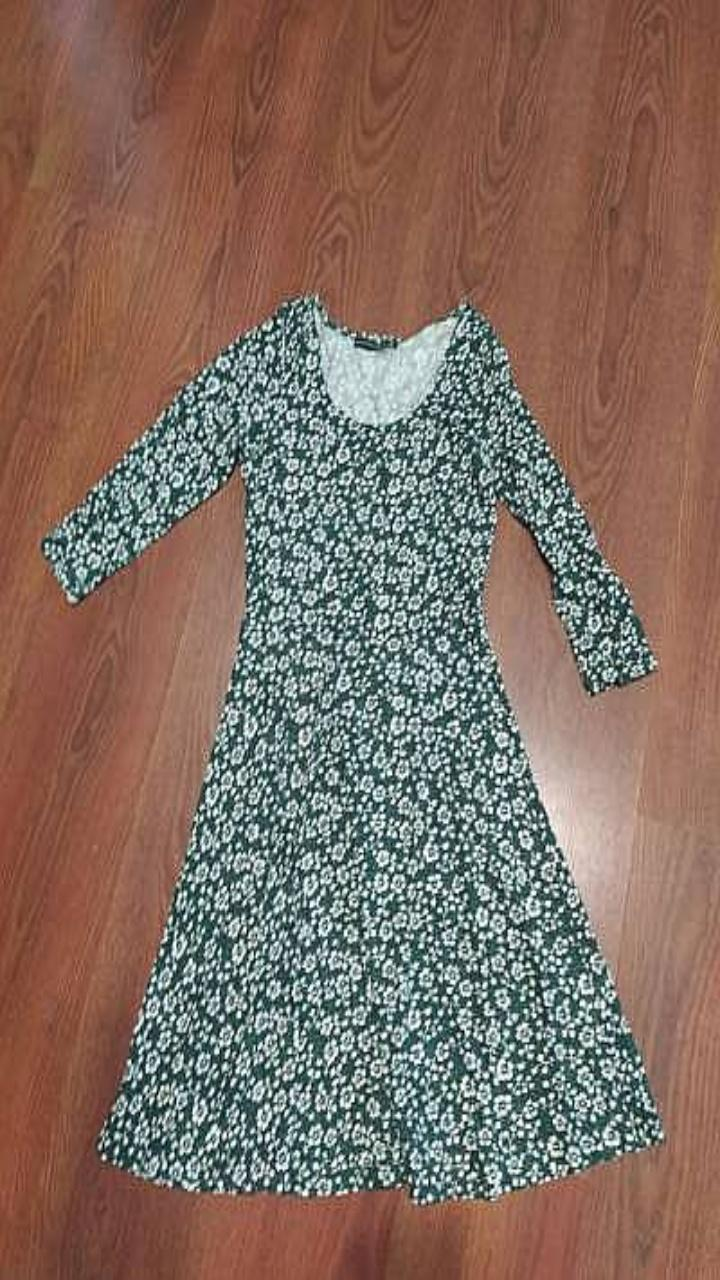Dresses: (40, 294, 663, 1202)
